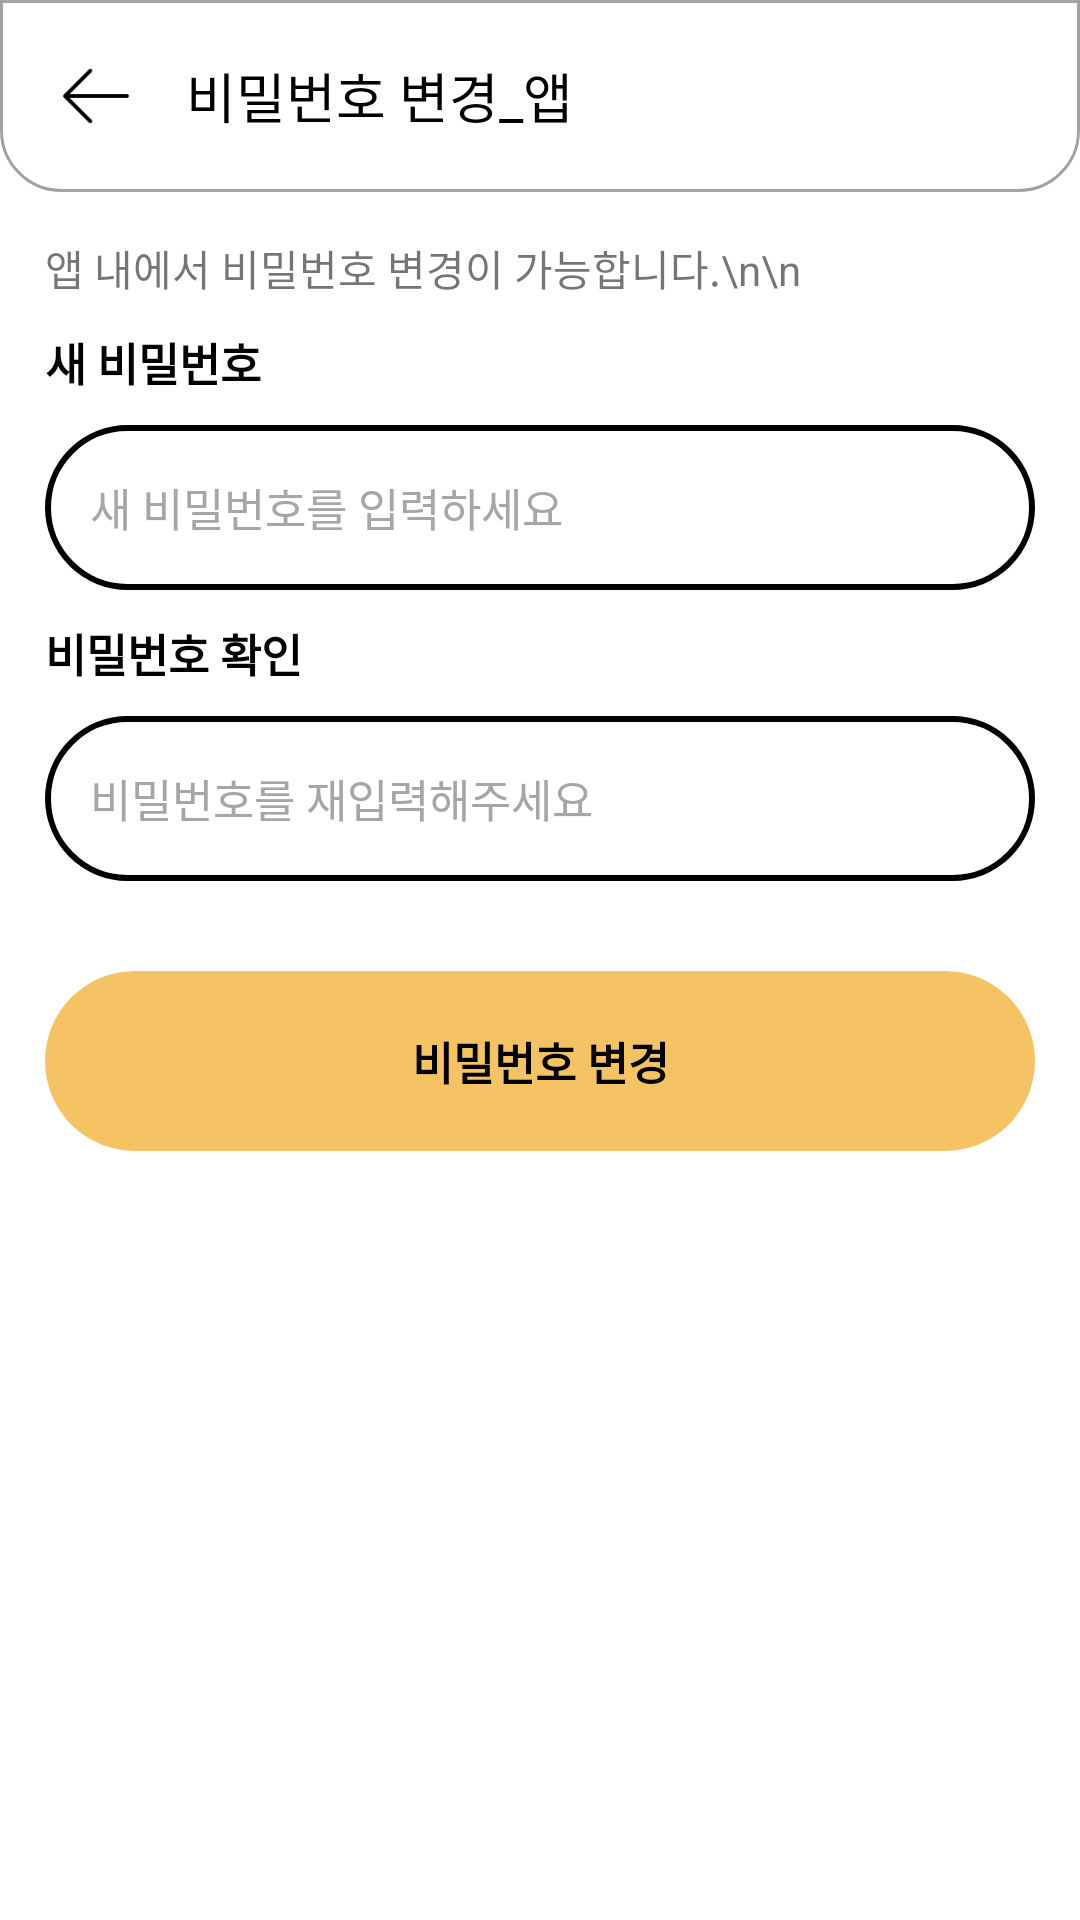

Icons on this 1080px×1920px Android screen, each with its box as bbox=(x1, y1, x2, y2):
back: bbox=(63, 68, 129, 124)
